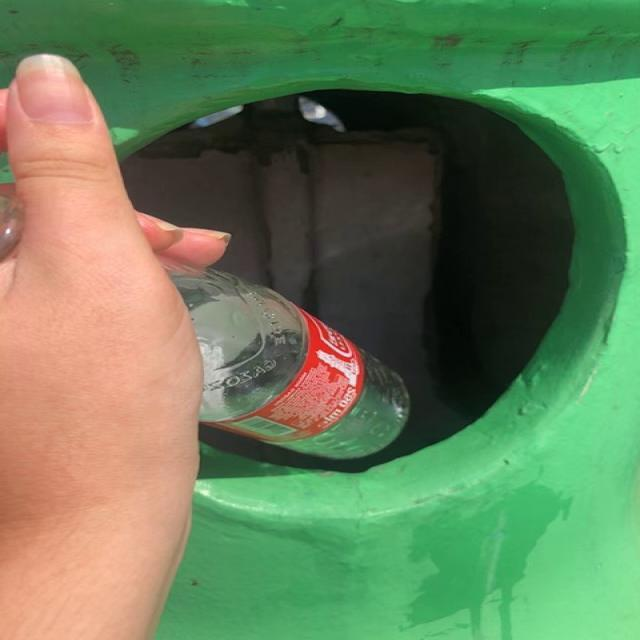Glass: (167, 267, 409, 460)
